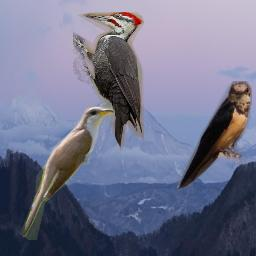Cuckoo: (19, 106, 115, 240)
Swallow: (177, 81, 252, 192)
Woodpecker: (73, 12, 144, 151)
